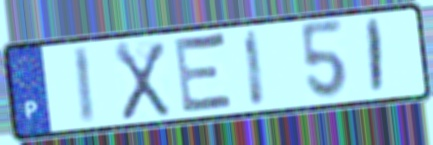5: (297, 17, 350, 104)
E: (172, 30, 238, 118)
I: (69, 43, 98, 127), (242, 27, 268, 110), (366, 16, 386, 97)
X: (111, 39, 173, 123)
